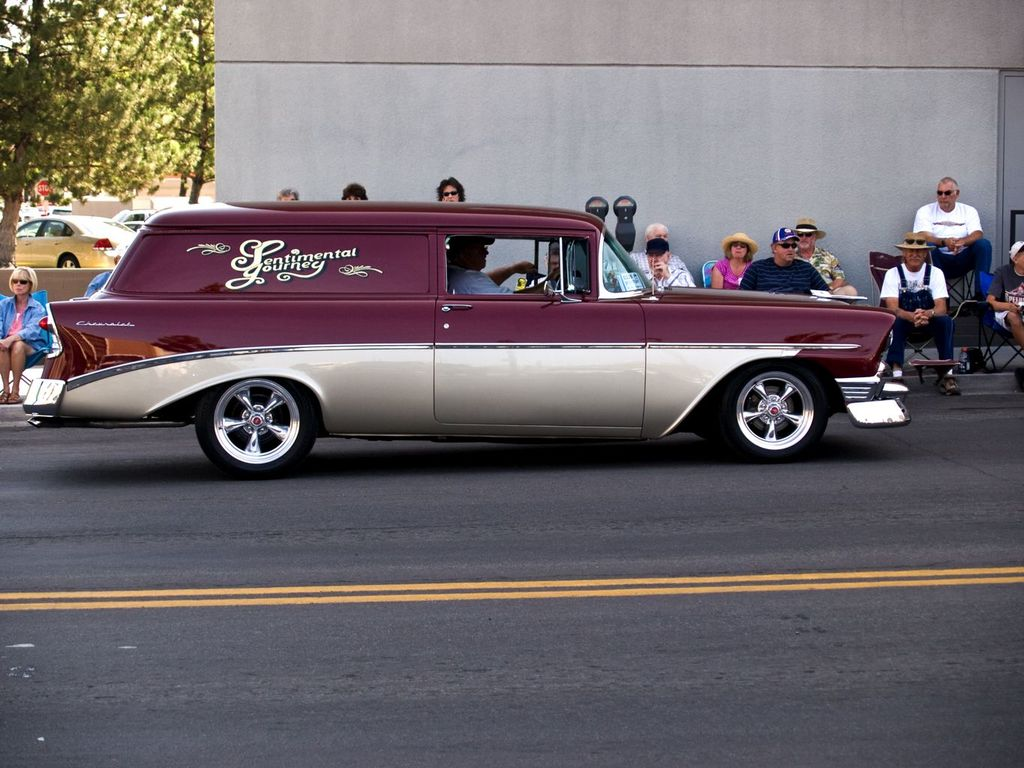Person: (0, 176, 1024, 404), (445, 234, 563, 303)
